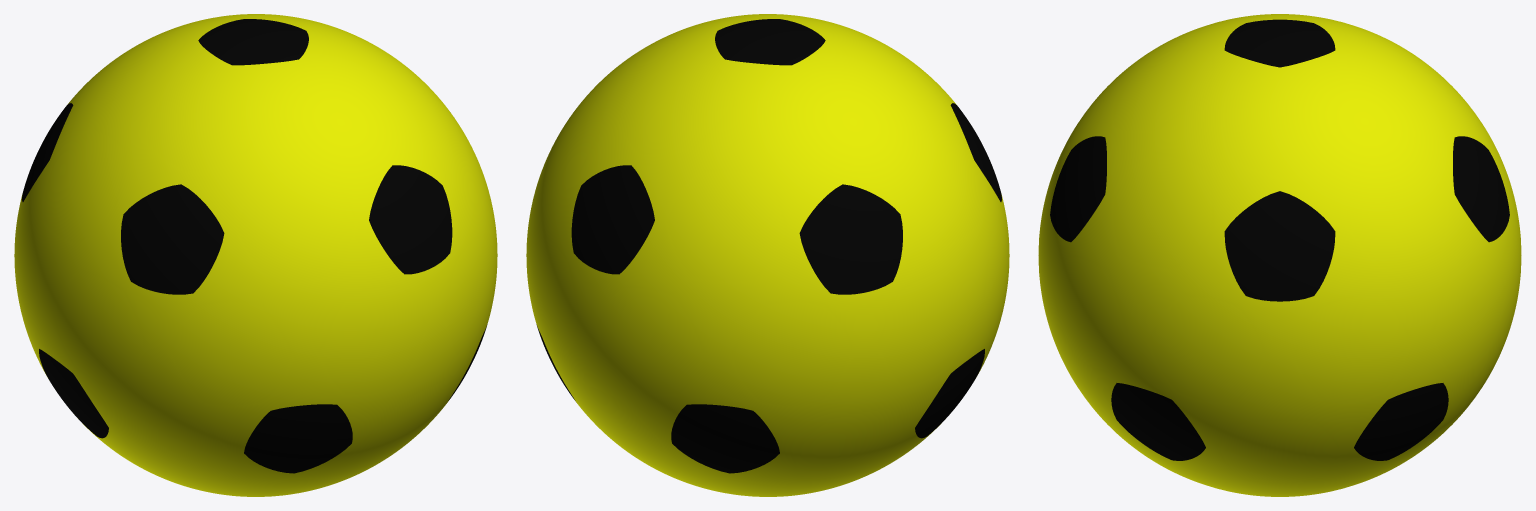
File: Green And Yellow Patched Football.fbx
3 renders of one model, left to right at view 1: azimuth 30°, elevation 25°; view 2: azimuth 150°, elevation 25°; view 3: azimuth 270°, elevation 25°, orthographic.
Parts seen in each view (by area): view 1: Icosphere; view 2: Icosphere; view 3: Icosphere.
Boxes of the visible parts, x1=… form: Icosphere: x1=14, y1=14, x2=497, y2=496; Icosphere: x1=526, y1=14, x2=1009, y2=496; Icosphere: x1=1038, y1=14, x2=1521, y2=496.
Size of what is drawn, in the model's own units: 194 by 194 by 194.
